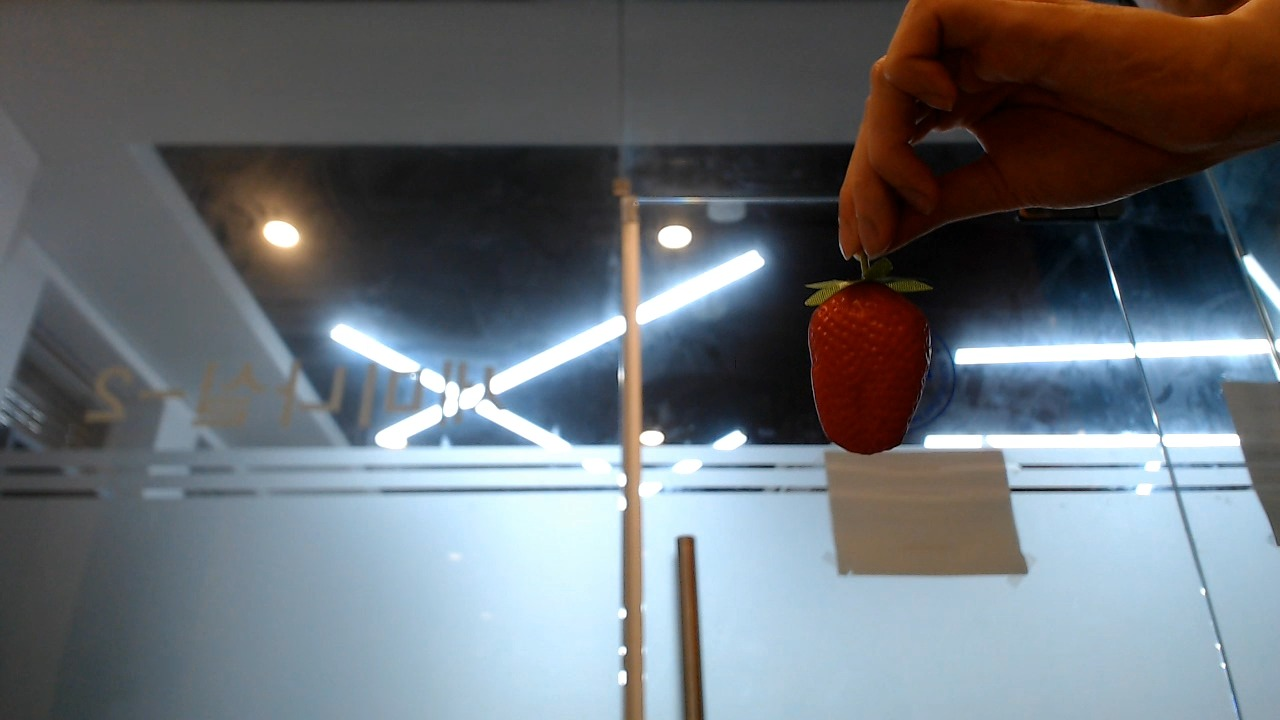strawberry: (797, 271, 946, 464)
